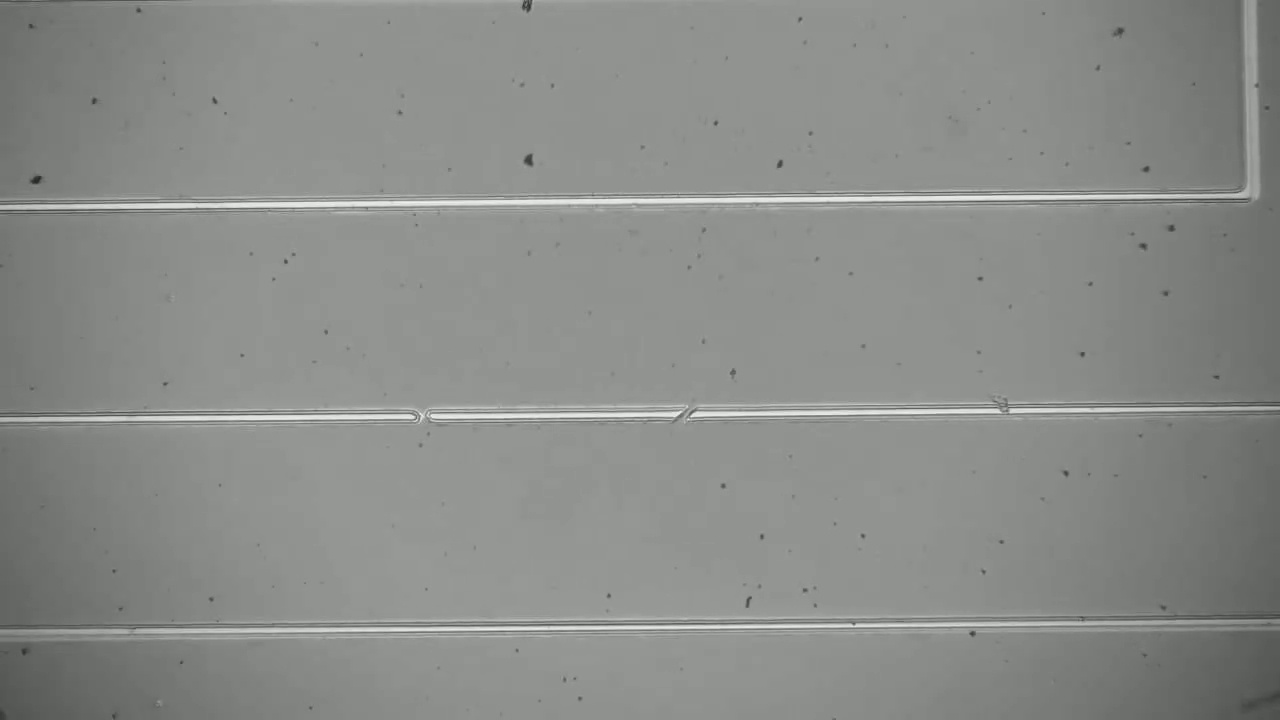open: (664, 395, 709, 437), (403, 400, 443, 438)
stains_enbedded: (981, 384, 1020, 430)
